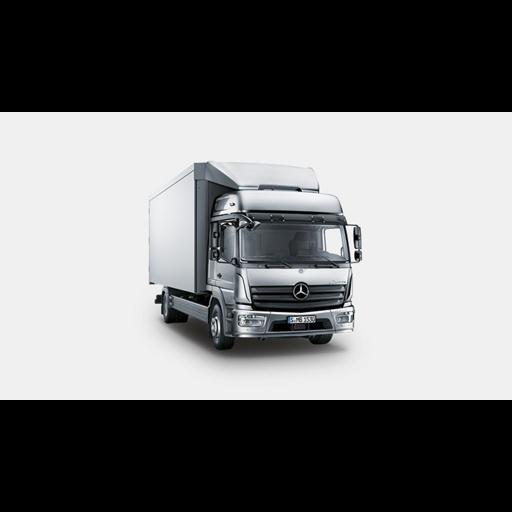truck: (142, 158, 366, 350)
